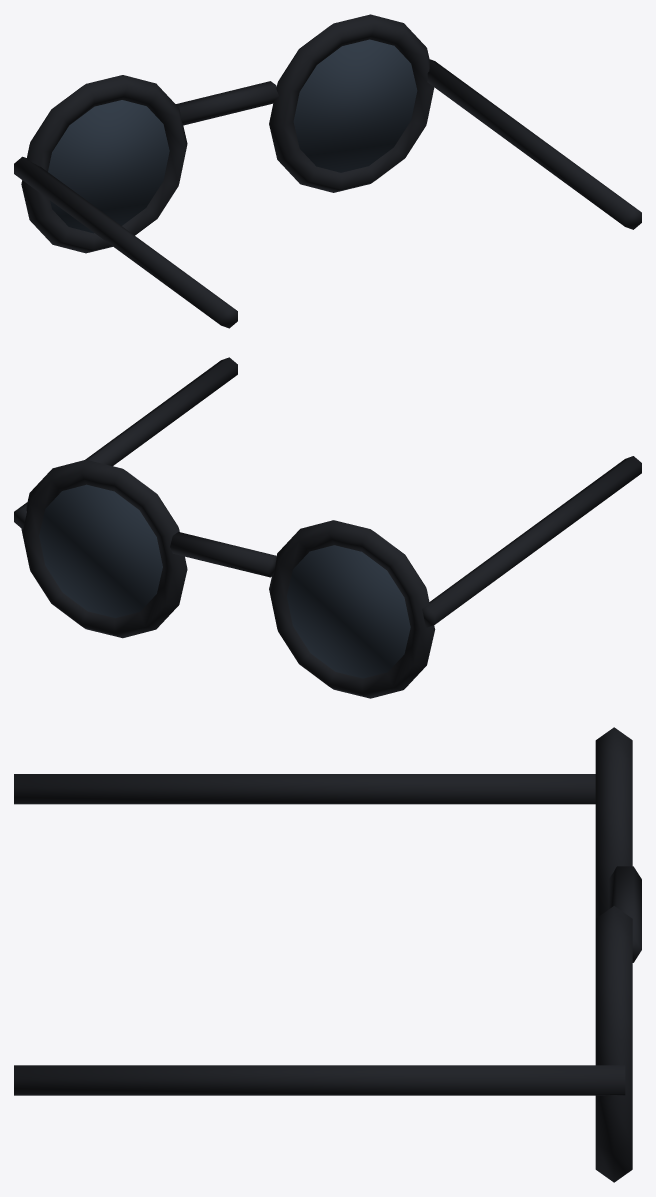
File: acc_sunglasses.glb
The picture shows the model from 3 angles, top to bottom: view 1: azimuth 30°, elevation 25°; view 2: azimuth 150°, elevation 25°; view 3: azimuth 270°, elevation 25°; orthographic projection. The views are drawn at different scales.
Parts seen in each view (by area): view 1: Head; view 2: Head; view 3: Head.
Part boxes in pixels (left/top/right/bottom): Head: left=14, top=14, right=641, bottom=328; Head: left=14, top=357, right=641, bottom=698; Head: left=14, top=727, right=641, bottom=1182.
Size of the model in its own units: 0.1292 by 0.0497 by 0.113.
